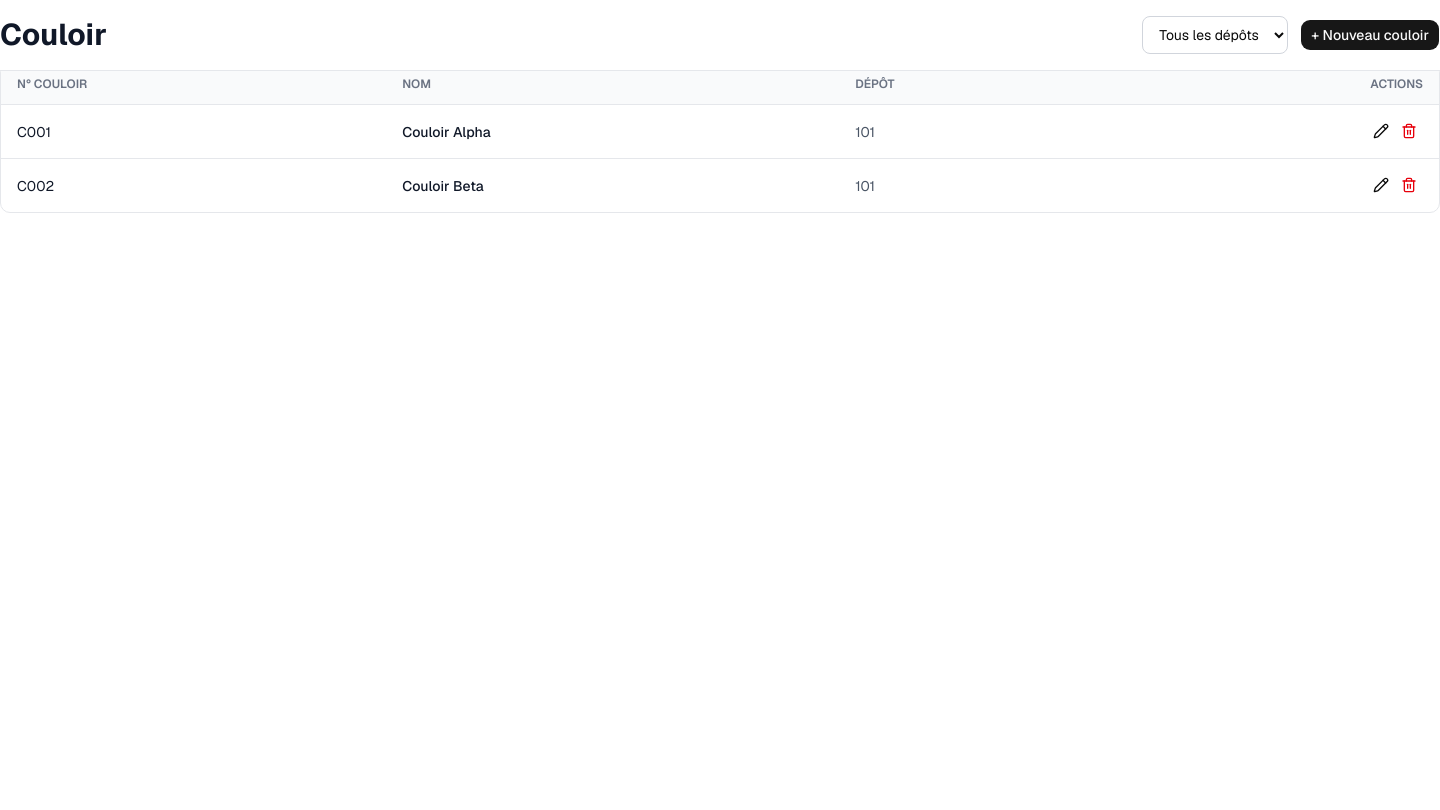
Scenario: opens edit dialog with all couloir fields
The width and height of the screenshot is (1440, 810).
Expected: the text "Couloir Alpha" is shown, [386,104,839,158]
Click the button named "modifier" in the row of "C001" at (1381, 131), box [1367,117,1395,145]
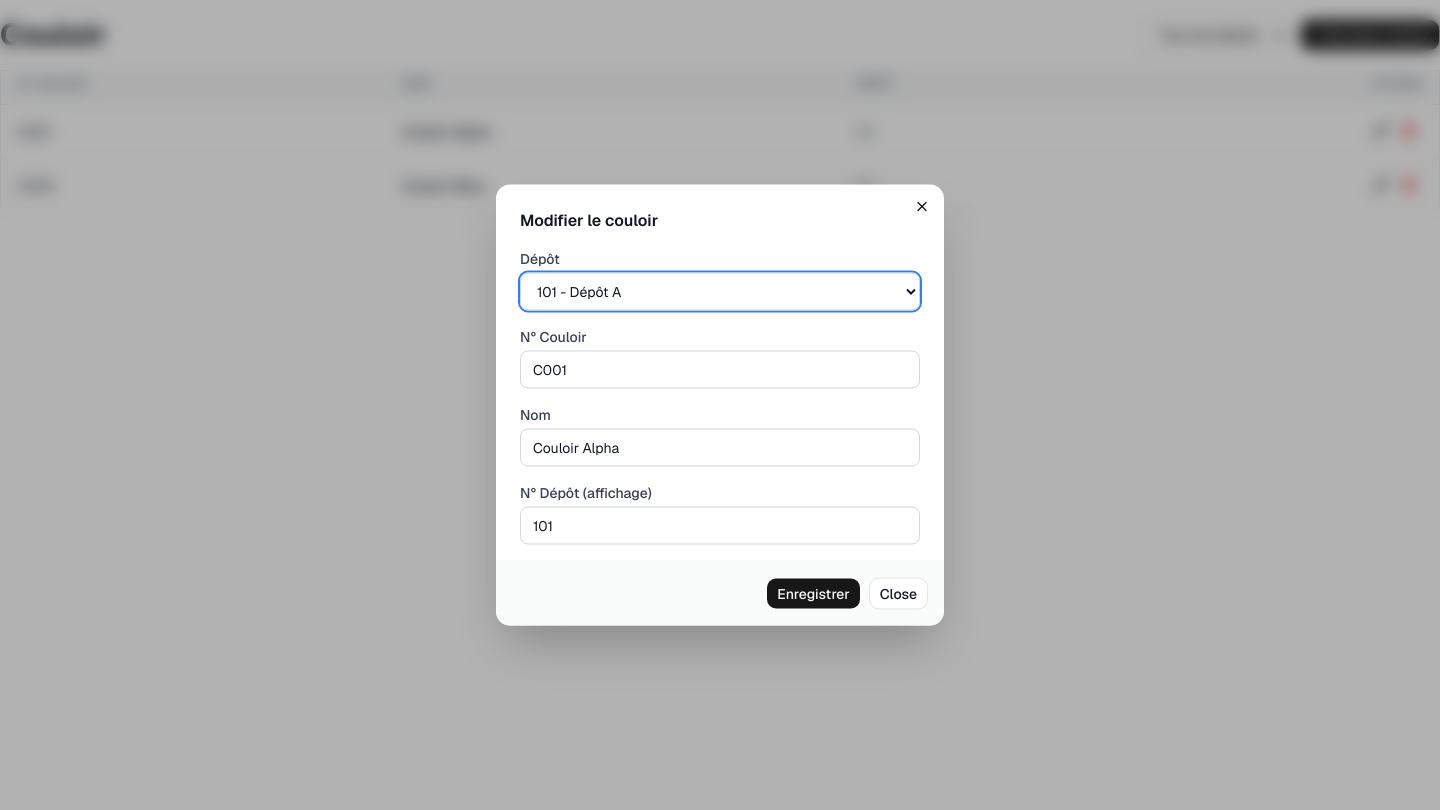
Expected: the heading "Modifier le couloir" is shown, [520,210,658,230]
Expected: the field labelled "N° Couloir" holds "C001", [520,350,920,388]
Expected: the field labelled "Nom" holds "Couloir Alpha", [520,428,920,466]
